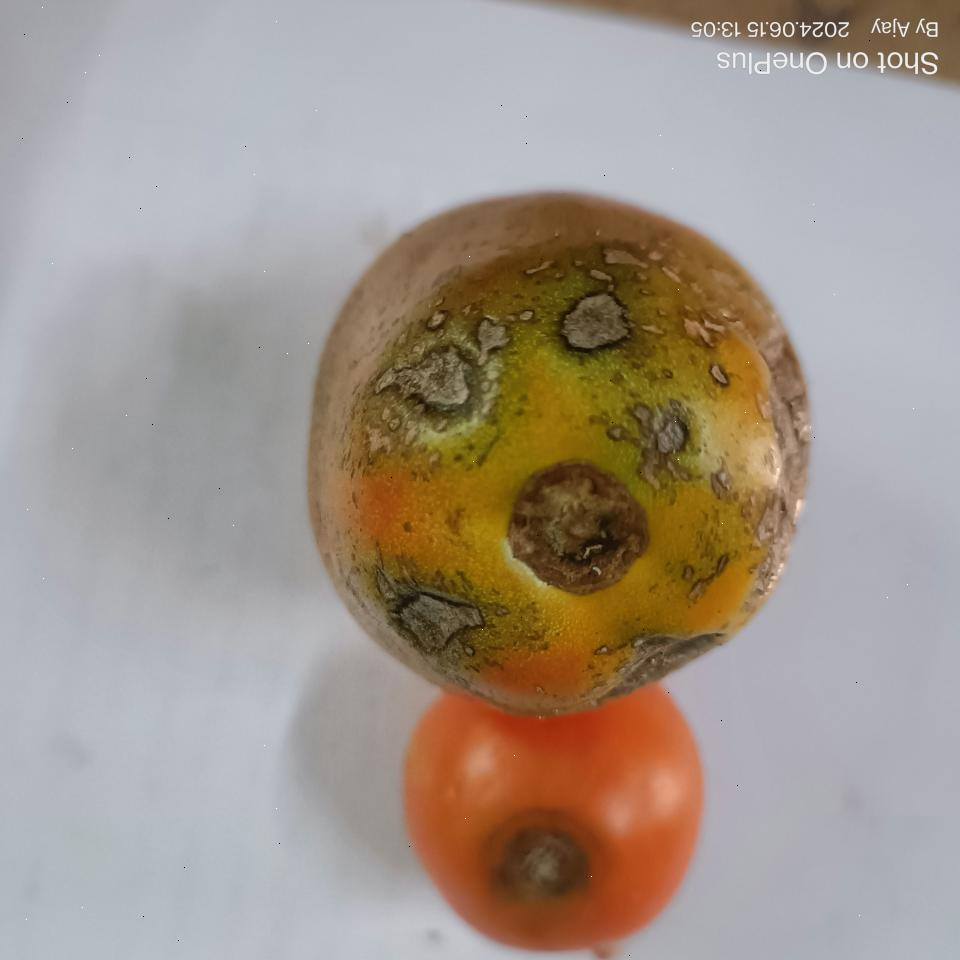Bacterial_Spot: (502, 467, 660, 601), (381, 585, 488, 656), (378, 351, 486, 419), (558, 288, 642, 361), (607, 400, 691, 447), (468, 308, 518, 345), (680, 313, 723, 349), (624, 638, 710, 656), (602, 245, 648, 271), (424, 310, 451, 332), (708, 364, 732, 388), (662, 265, 682, 285), (642, 664, 664, 678), (584, 665, 604, 676), (623, 680, 631, 691)
